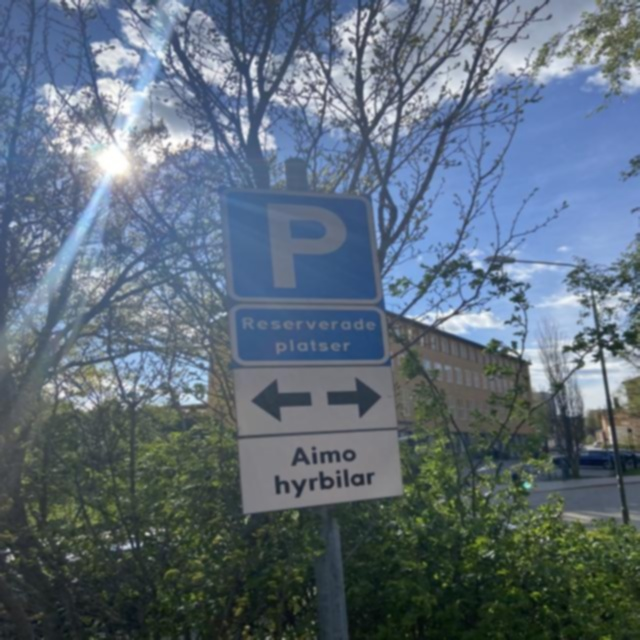P-skylt: (222, 189, 384, 306)
